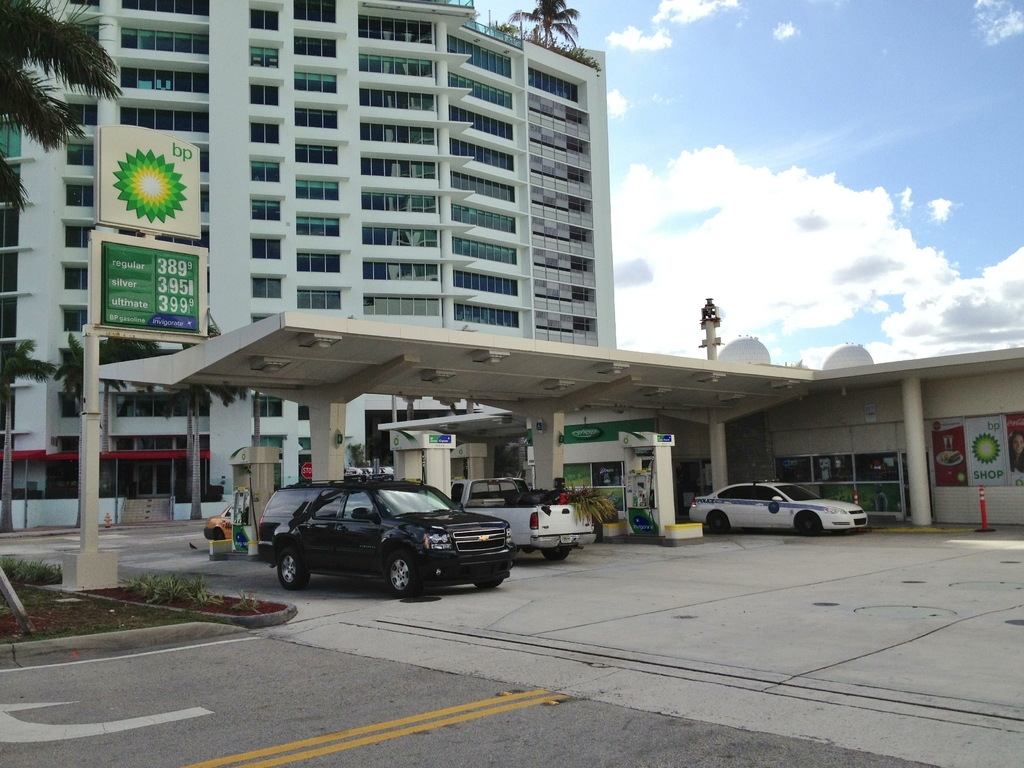mobil: (262, 482, 517, 596), (693, 480, 868, 547)
